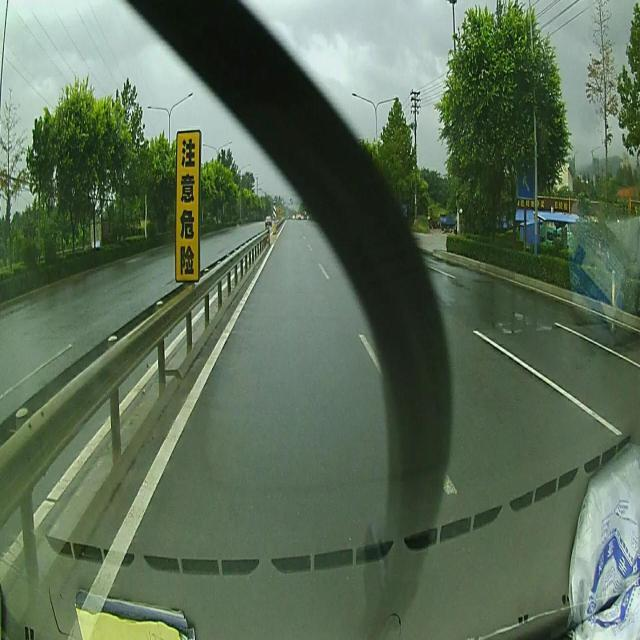car: (265, 215, 273, 226)
